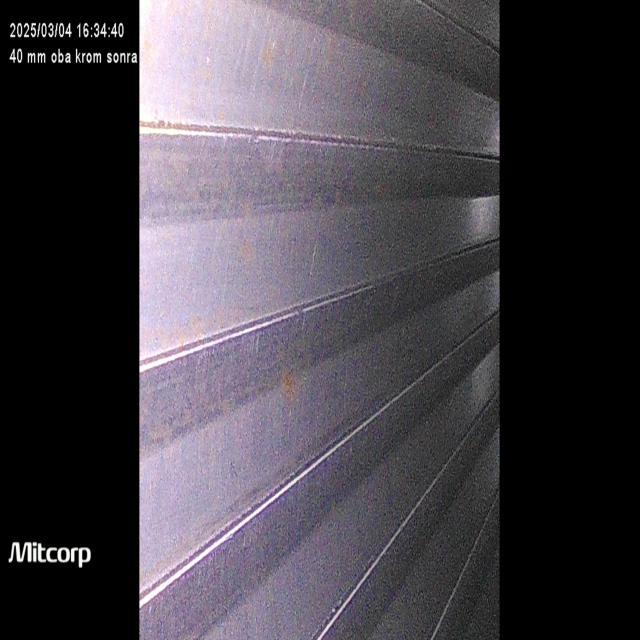hata_4.2: (222, 205, 268, 293), (265, 360, 308, 425), (257, 30, 289, 90)
